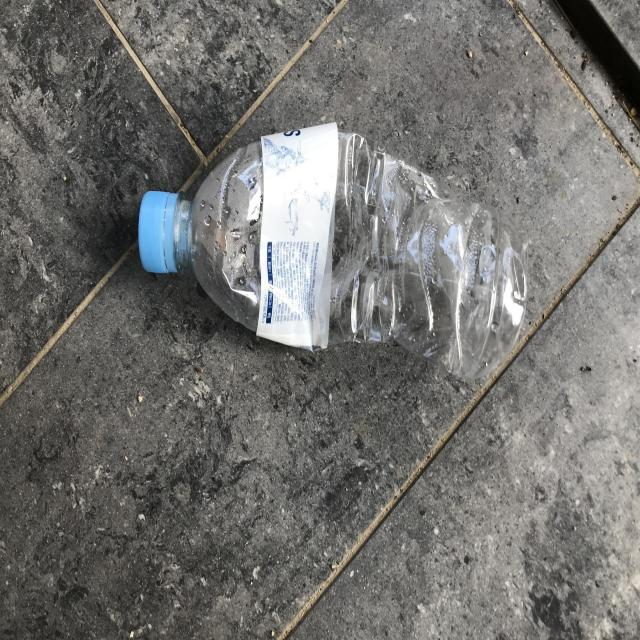plastic: (138, 122, 528, 380)
